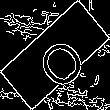O_NW: (24, 22, 86, 88)
